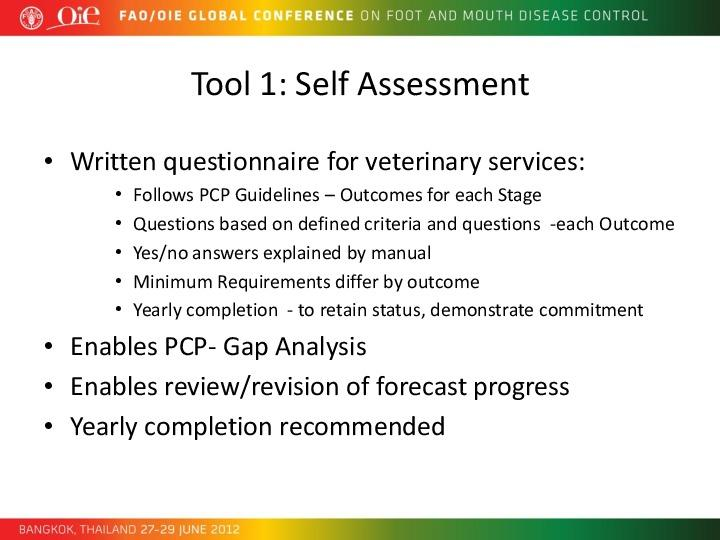paragraph: (20, 126, 686, 472)
subtitle: (179, 58, 546, 114)
title: (115, 3, 662, 32)
